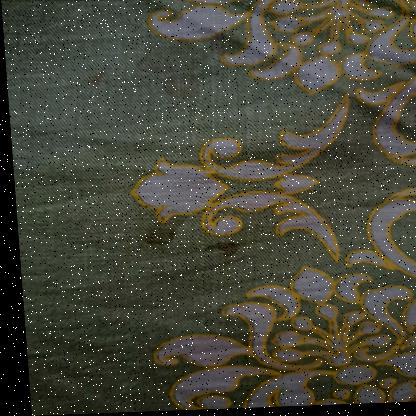spot: (131, 37, 210, 82), (126, 212, 203, 251), (152, 69, 224, 104), (193, 241, 243, 273), (76, 68, 123, 91)
